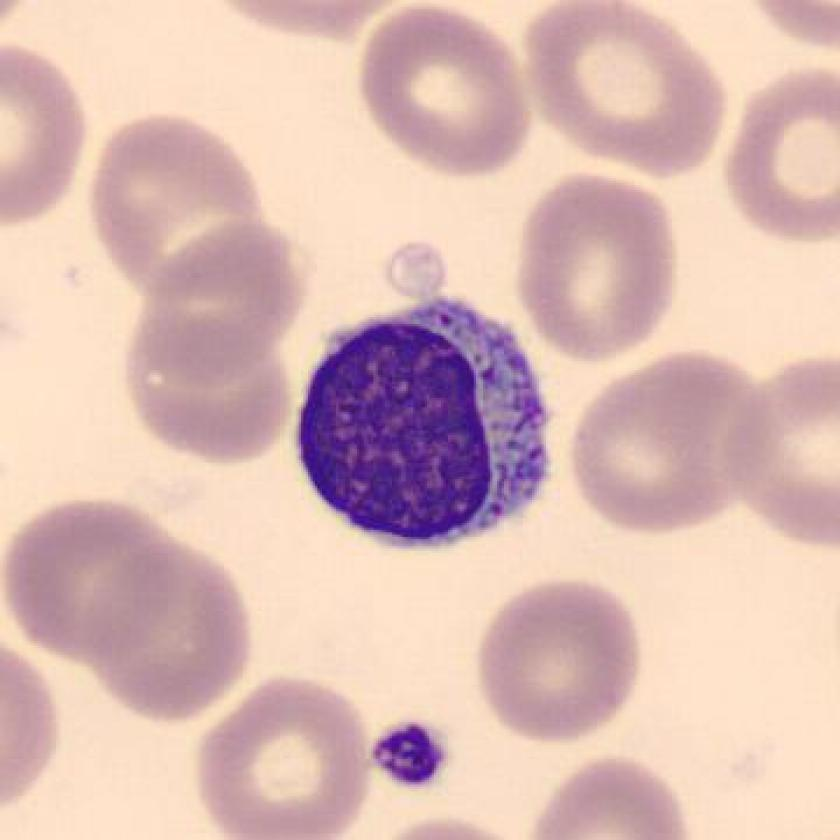lymphocyte: (286, 286, 570, 575)
platelets: (366, 710, 458, 794), (379, 236, 459, 301)
